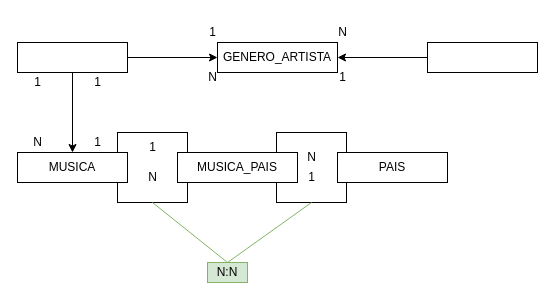
Image size: 555x300. Some labels were removed from this diagram. The shapes that lost their labels are listed below. From the top down, each one's centre as x and y in pixels, then its label:
point (72, 57): ARTISTA
point (482, 57): GENERO
